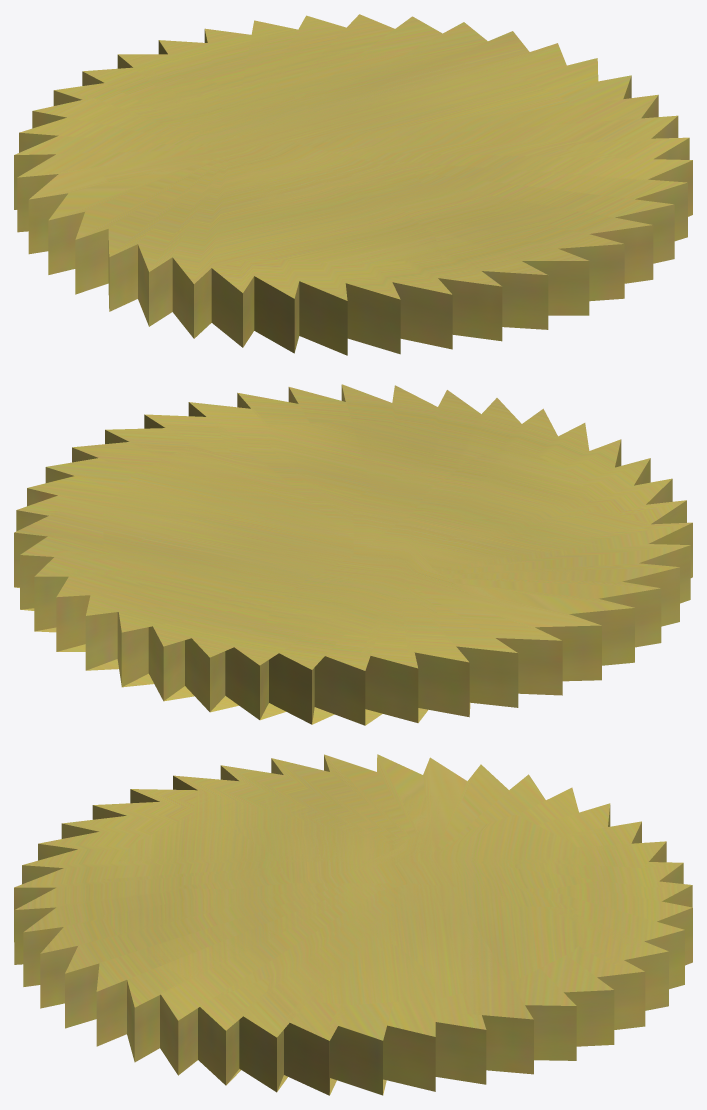
File: ClockAngle6Spoke040.fbx
3 views of the same model, one above another, from view 1: azimuth 30°, elevation 25°; view 2: azimuth 150°, elevation 25°; view 3: azimuth 270°, elevation 25° (orthographic).
Visible parts, largest first — view 1: ClockAngle6Spoke040; view 2: ClockAngle6Spoke040; view 3: ClockAngle6Spoke040.
Boxes of the visible parts, bbox=[...] form: ClockAngle6Spoke040: bbox=[14, 14, 692, 355]; ClockAngle6Spoke040: bbox=[14, 384, 692, 725]; ClockAngle6Spoke040: bbox=[14, 754, 692, 1095].
Bounding box in the file's own units: 221 × 19.69 × 221.
